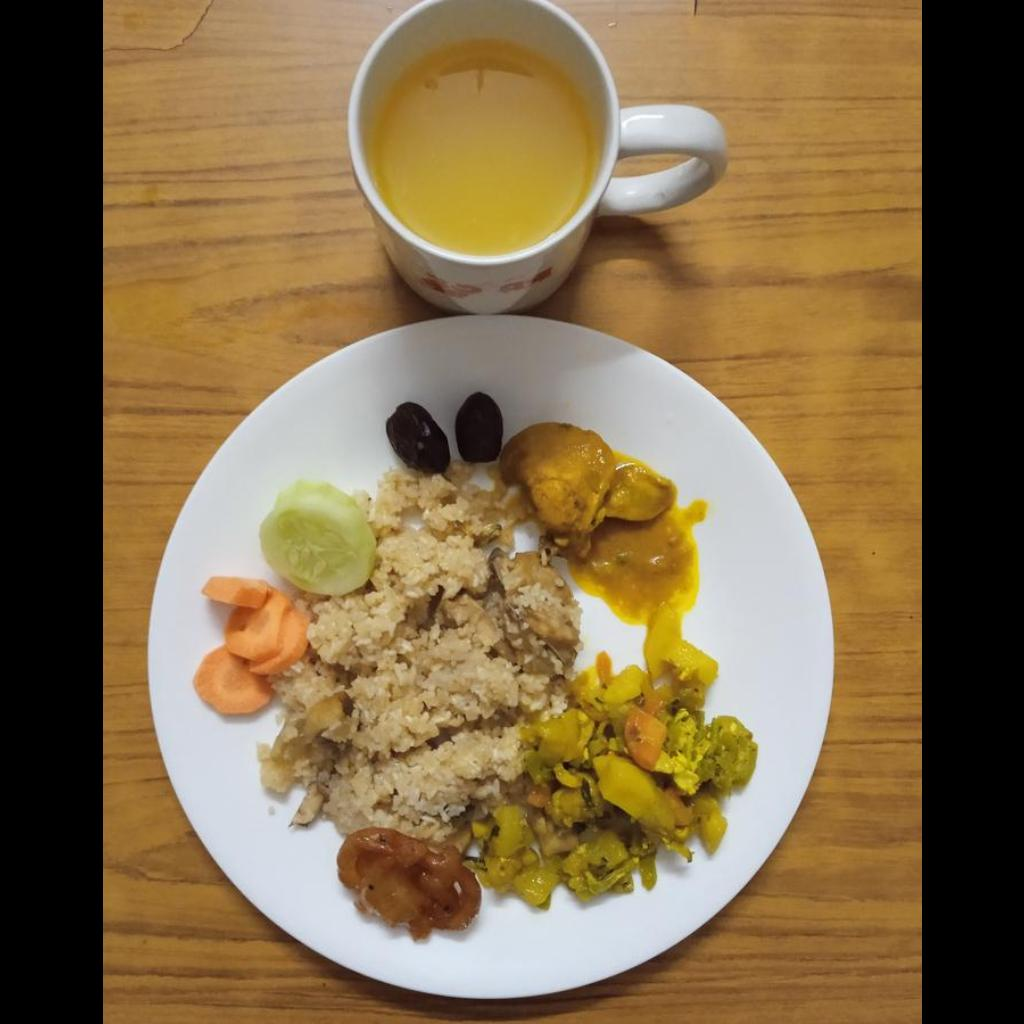biriyani: (260, 473, 580, 839)
carrot: (193, 577, 306, 715)
chicken: (500, 424, 673, 537)
cucumber: (259, 479, 374, 595)
dates: (385, 403, 449, 473), (454, 391, 501, 463)
jilapi: (336, 828, 479, 940)
juice: (366, 42, 598, 257)
vegetable: (465, 641, 756, 907)
